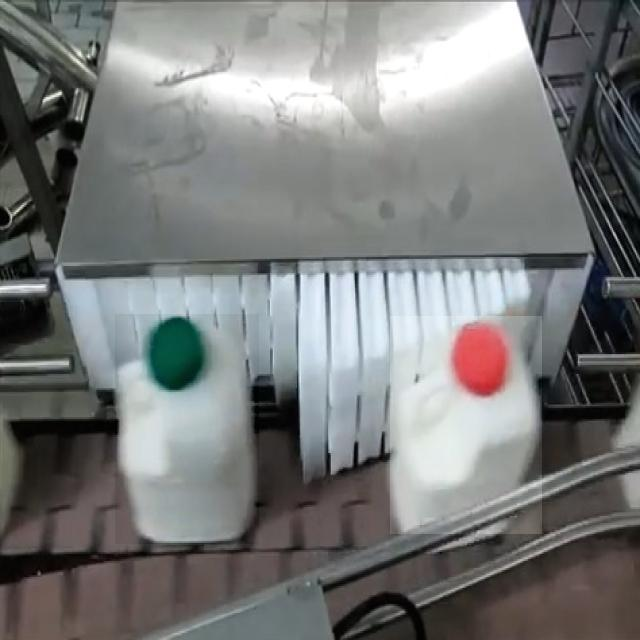milk: (114, 316, 298, 578), (389, 305, 553, 548)
